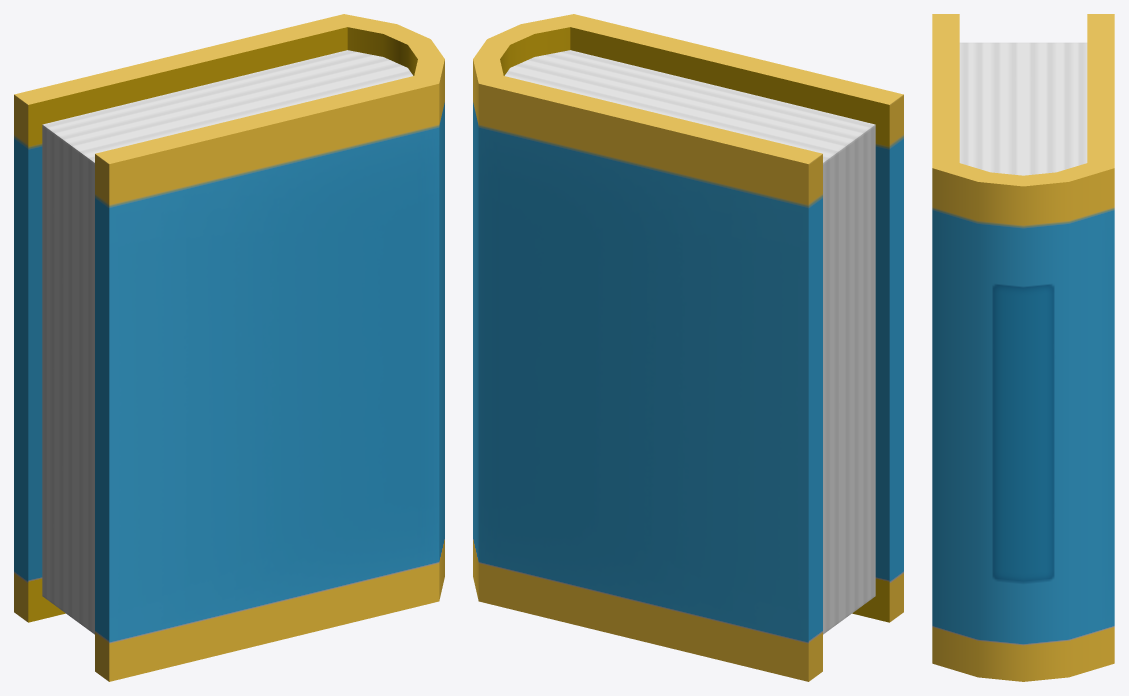
File: ENV2010014.fbx
3 renders of one model, left to right at view 1: azimuth 30°, elevation 25°; view 2: azimuth 150°, elevation 25°; view 3: azimuth 270°, elevation 25°, orthographic. The views are drawn at different scales.
Visible parts, largest first — view 1: smENV2010014; view 2: smENV2010014; view 3: smENV2010014.
Part boxes in pixels (x1,y1,x2,y2): smENV2010014: (14,14,444,681); smENV2010014: (473,14,903,681); smENV2010014: (932,14,1114,681).
Size of the model in its own units: 9.48 by 12.71 by 4.24.
1 material, 1 textured.
